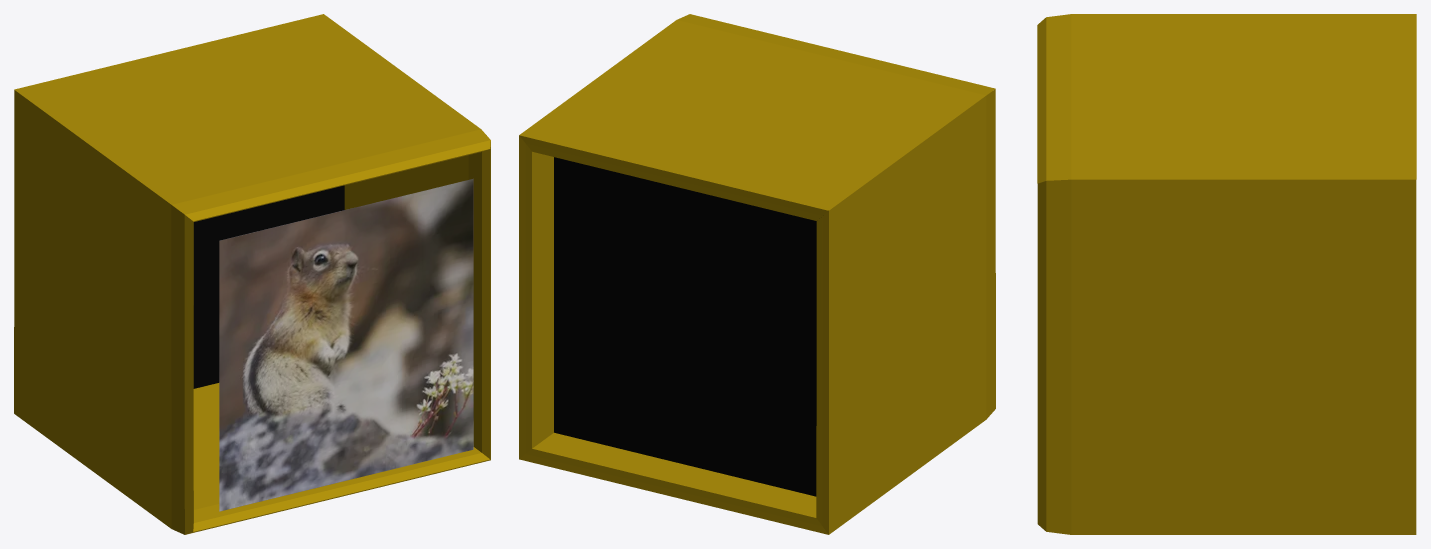
The model's file is sh-contrib-squirrel-frame.glb.
The picture shows the model from 3 angles, left to right: view 1: azimuth 30°, elevation 25°; view 2: azimuth 150°, elevation 25°; view 3: azimuth 270°, elevation 25°; orthographic projection. The views are drawn at different scales.
Visible parts, largest first — view 1: WoodFrame_Cylinder_Wood.001, Photo_Cube_Material_Squirrel, Frame_Black_Material.011; view 2: WoodFrame_Cylinder_Wood.001, Frame_Black_Material.011; view 3: WoodFrame_Cylinder_Wood.001.
Boxes of the visible parts, <box> form: WoodFrame_Cylinder_Wood.001: <box>14,14,490,534</box>; Photo_Cube_Material_Squirrel: <box>219,178,473,511</box>; Frame_Black_Material.011: <box>193,185,344,388</box>; WoodFrame_Cylinder_Wood.001: <box>519,14,995,534</box>; Frame_Black_Material.011: <box>554,157,816,496</box>; WoodFrame_Cylinder_Wood.001: <box>1037,14,1416,534</box>.
Size of the model in its own units: 1 by 1 by 1.
Materials: 3 (1 with a texture image).
